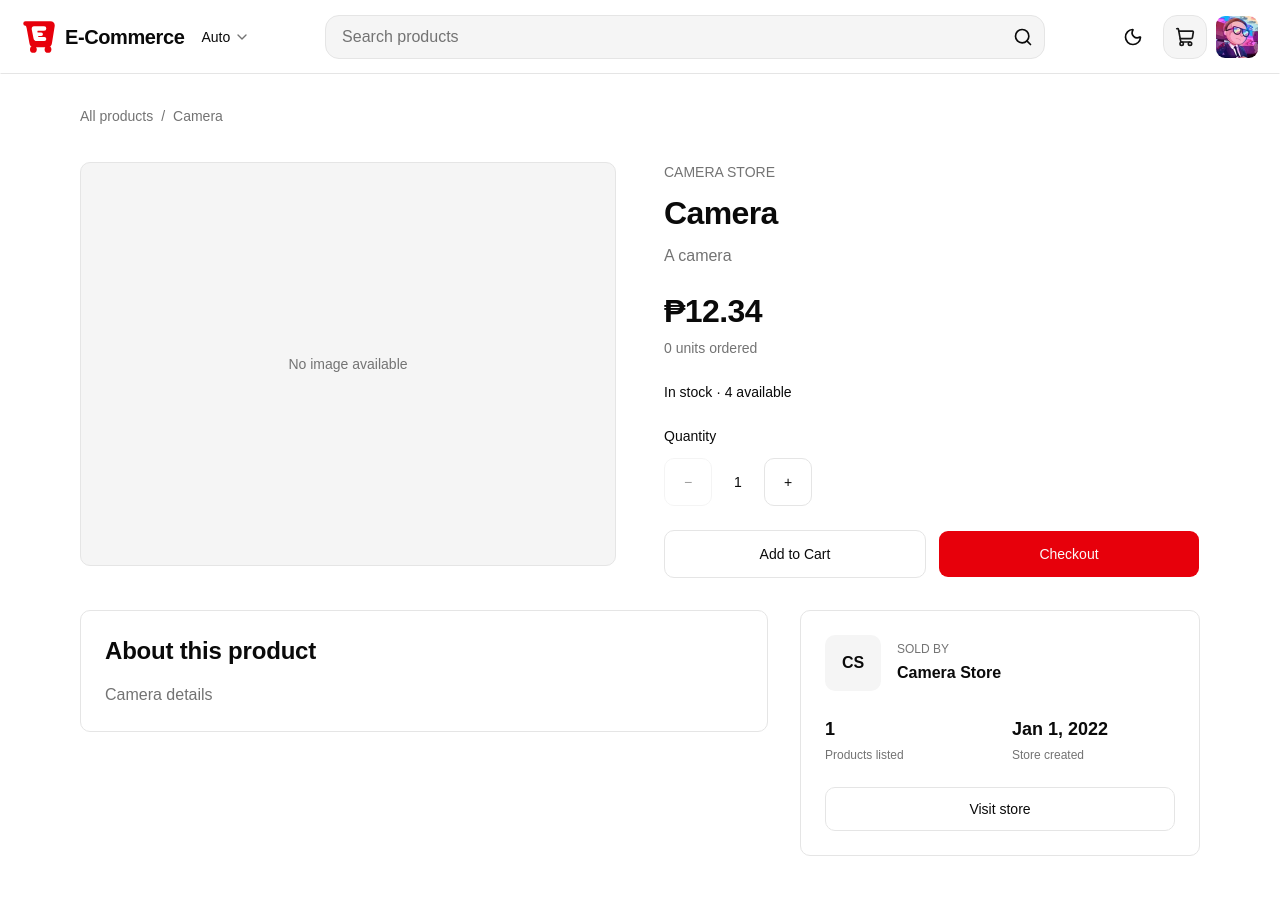
Test: Shopping cart › adds the chosen product quantity and exposes the saved cart
Click the button named "Increase quantity": (788, 482) [764,458,812,506]
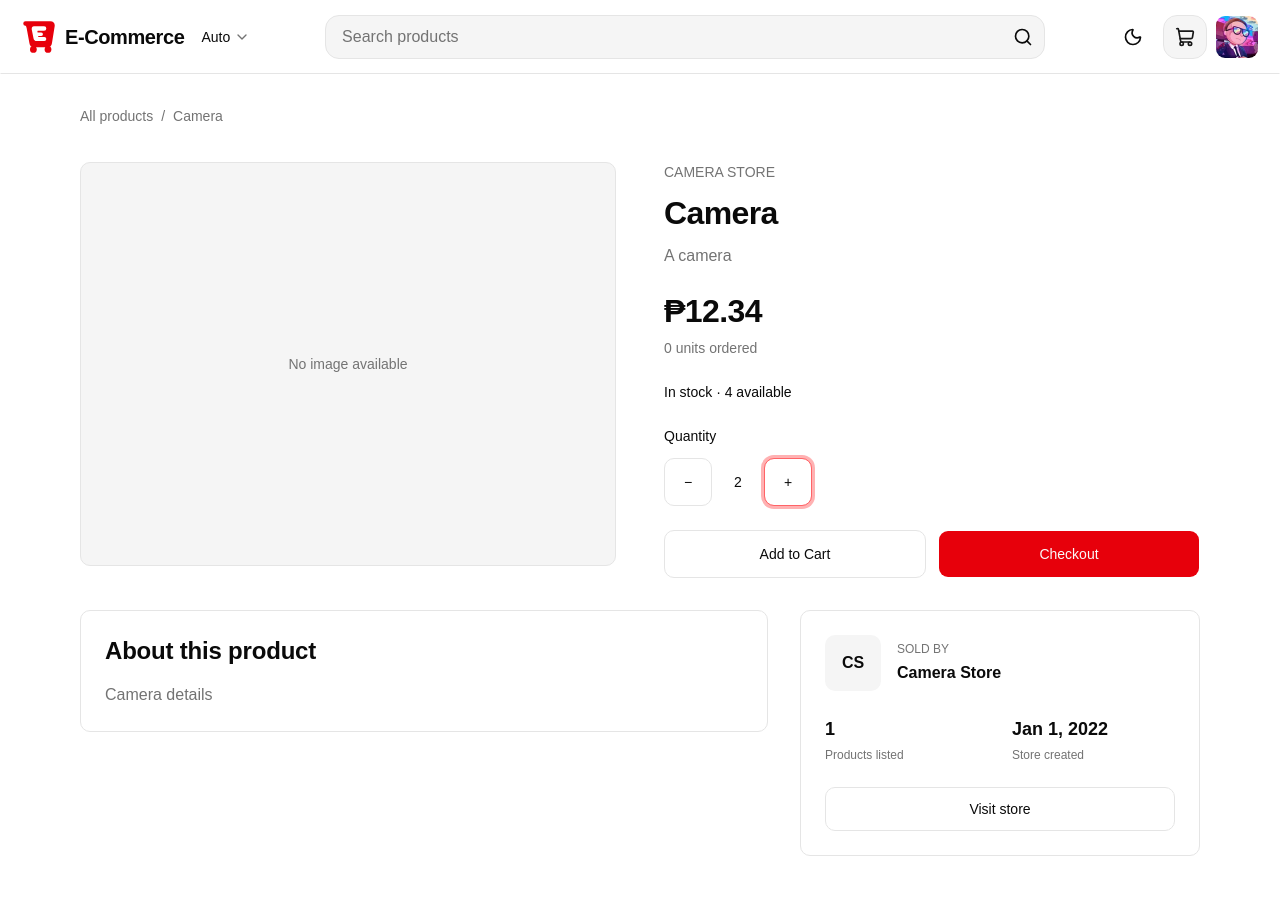
Click the button "Add to Cart": (795, 554) [664,530,926,578]
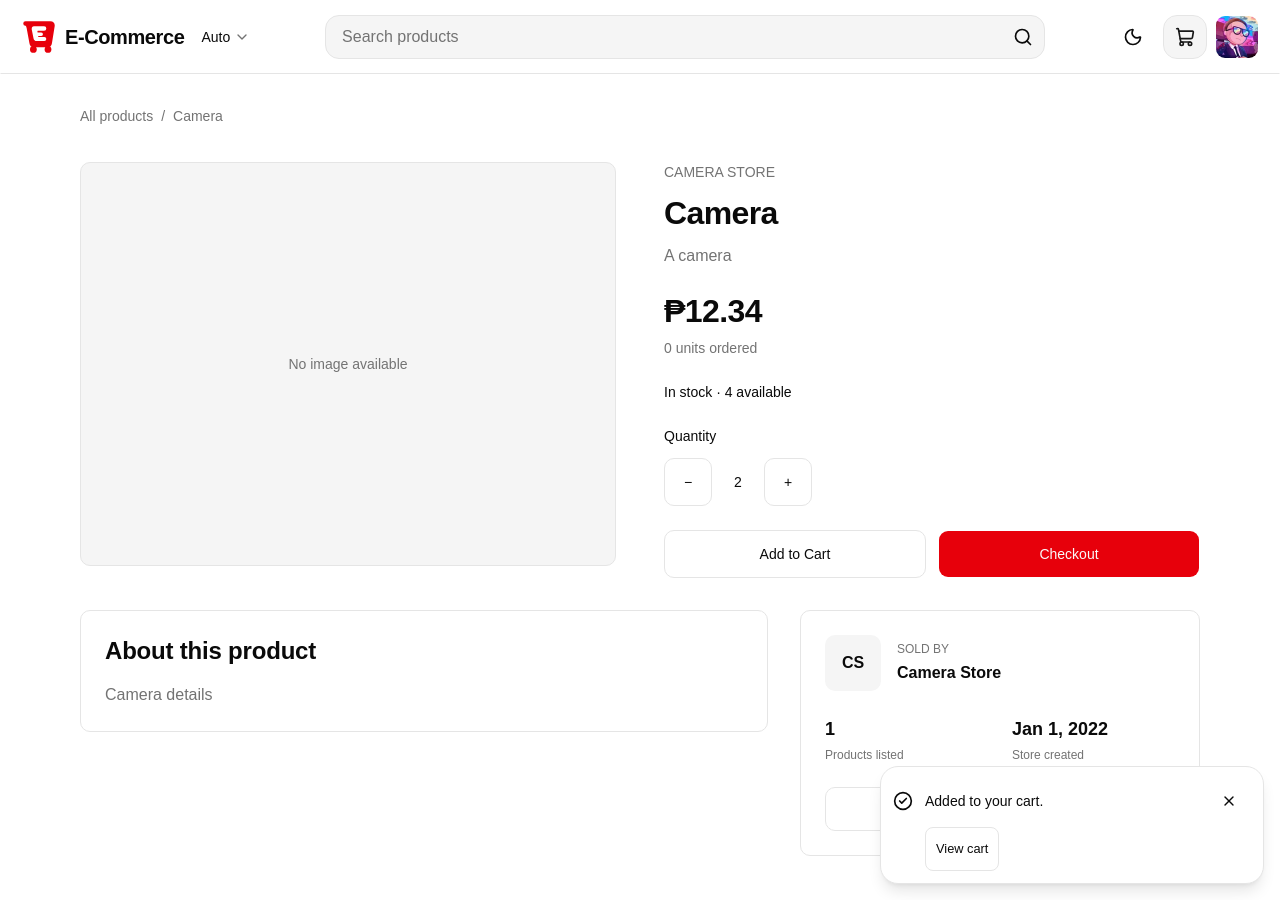
Now the heading "Added to your cart." is shown, box [925,793,1043,809]
Click the button "View cart": (962, 849) [925,827,999,871]
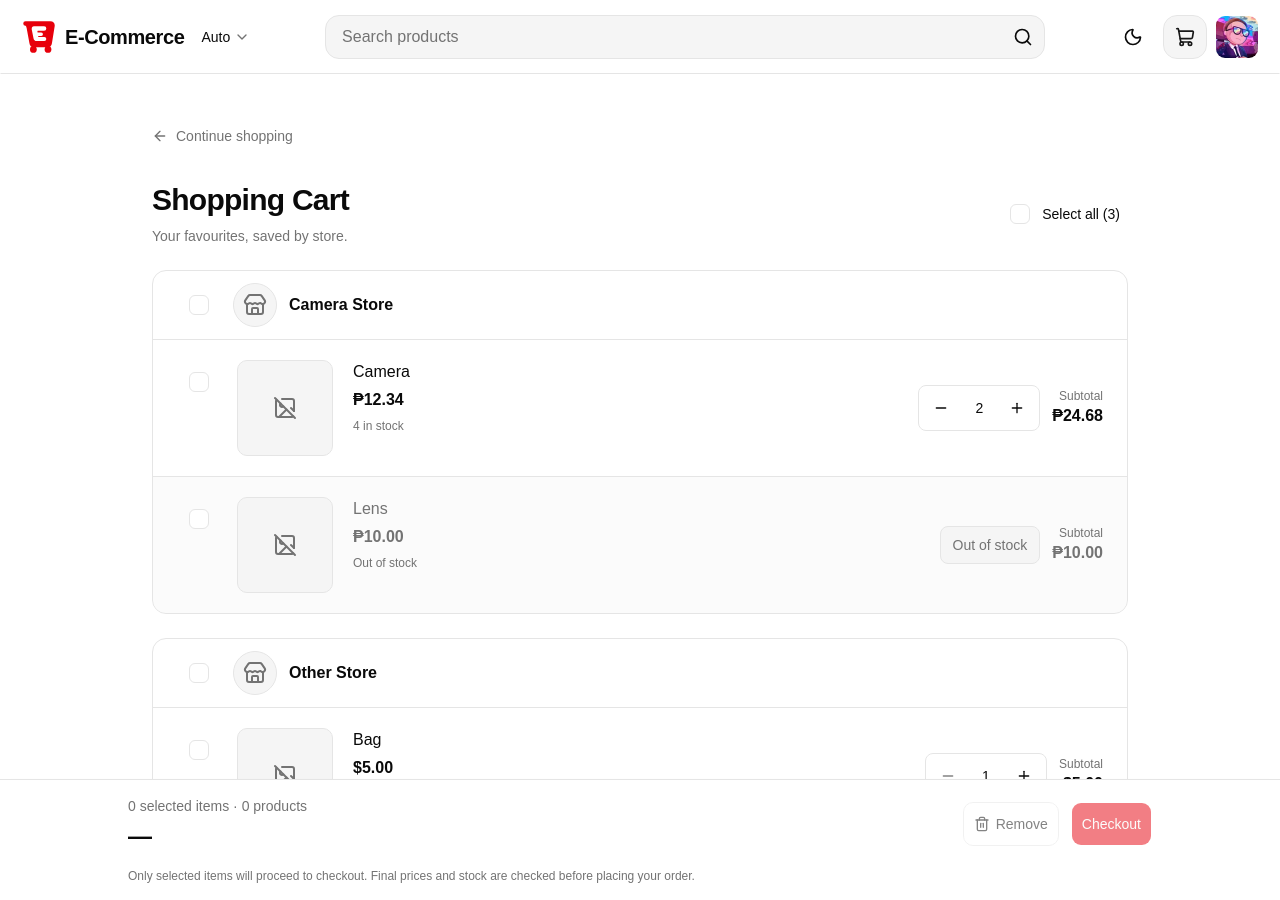
Expected: the text named "Camera quantity" reads "2", [975,400,983,416]
Now the heading "Shopping Cart" is shown, box [152,182,349,218]
